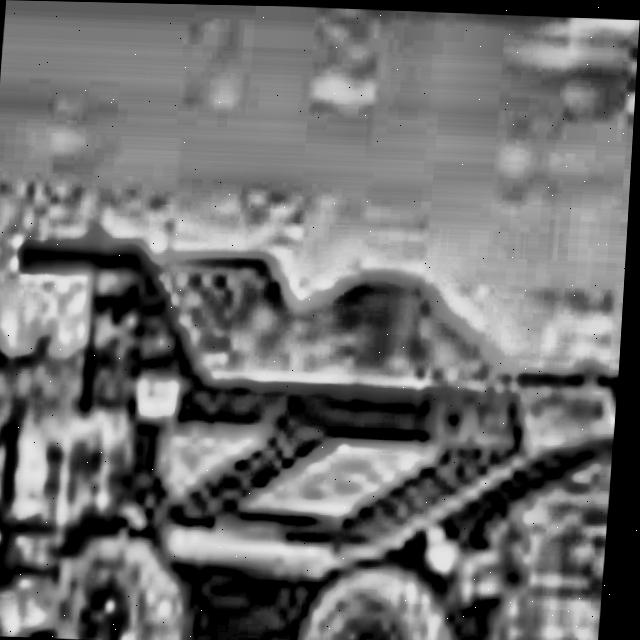dump_truck: (0, 156, 633, 640)
